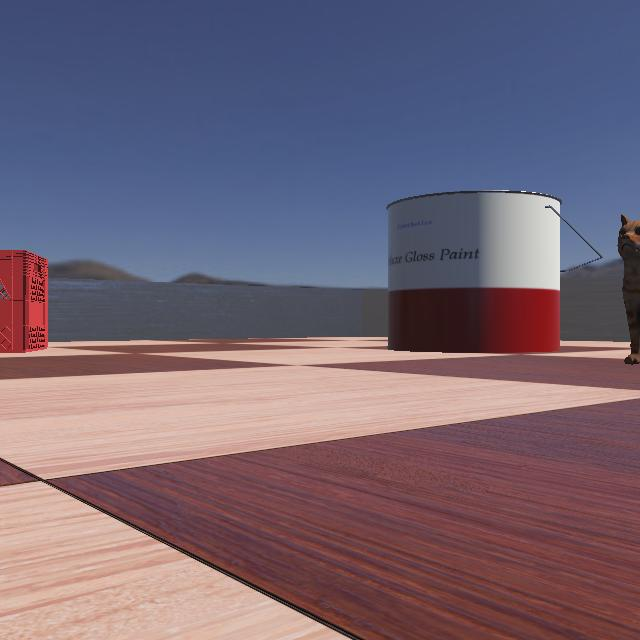cat: (572, 206, 640, 368), (572, 206, 640, 368), (572, 206, 640, 368)
paint-bucket: (376, 190, 634, 354), (376, 190, 634, 354)
plastic-crate: (0, 244, 62, 354)
